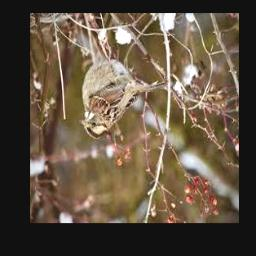Sparrow: (78, 48, 167, 139)
